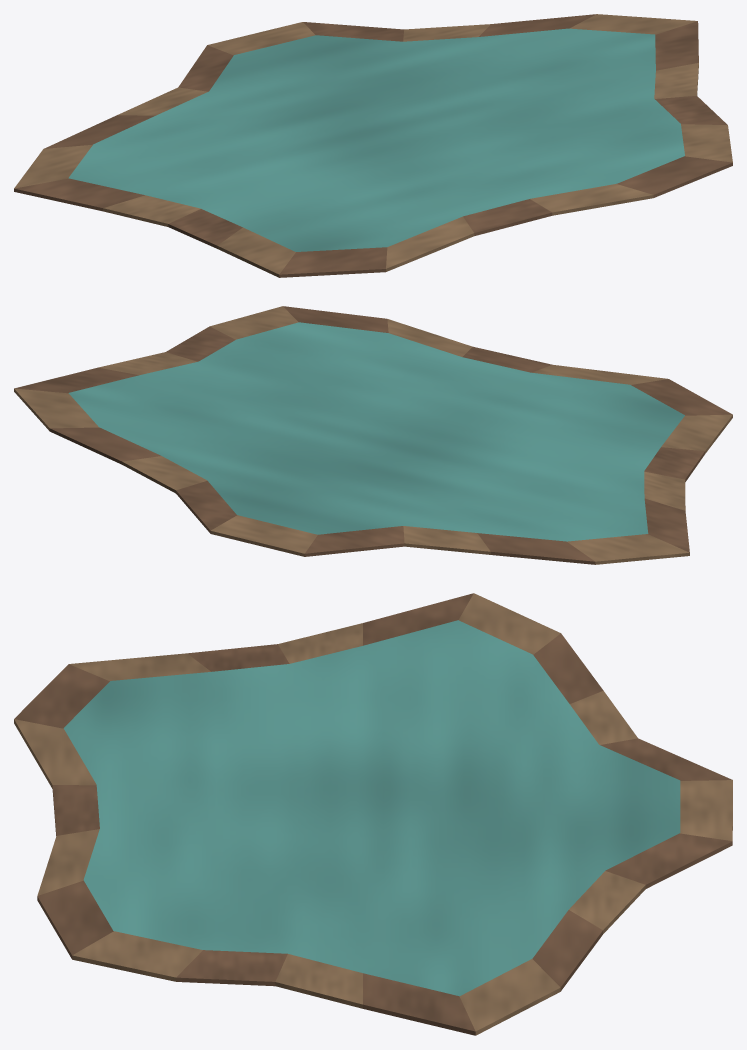
The model's file is puddle_05.fbx.
3 renders of one model, top to bottom at view 1: azimuth 30°, elevation 25°; view 2: azimuth 150°, elevation 25°; view 3: azimuth 270°, elevation 25°, orthographic. The views are drawn at different scales.
Parts seen in each view (by area): view 1: puddle_05; view 2: puddle_05; view 3: puddle_05.
Boxes of the visible parts, x1=… form: puddle_05: x1=14, y1=14, x2=732, y2=277; puddle_05: x1=14, y1=306, x2=732, y2=564; puddle_05: x1=14, y1=593, x2=732, y2=1035.
Size of the model in its own units: 404 by 3.5 by 280.
2 materials, 2 textured.
